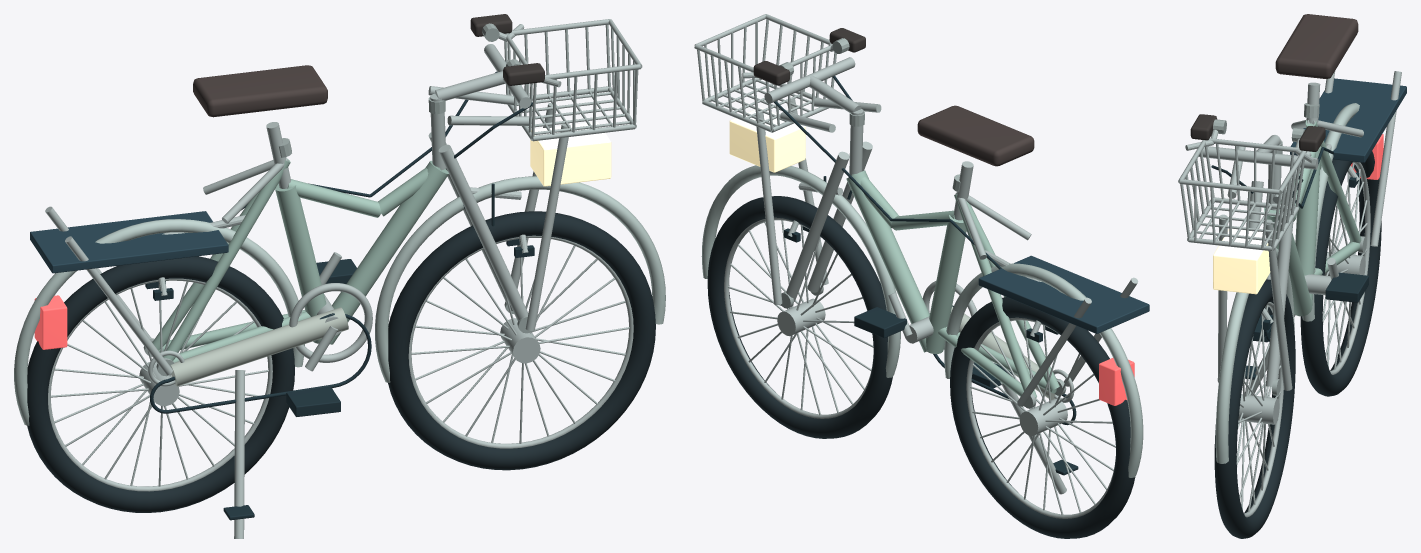
Rendered from bicycle.glb.
3 views of the same model, side by side, from view 1: azimuth 30°, elevation 25°; view 2: azimuth 150°, elevation 25°; view 3: azimuth 270°, elevation 25° (orthographic). The views are drawn at different scales.
Parts seen in each view (by area): view 1: Repair | Bicycle wheel rim.002, Repair | Bicycle tyre.002, Repair | Rear seat stay.002, Web | Bicycle/0005.001, Repair | Bicycle rear carrier.001, Repair | Bicycle chain.034, Rounded bicycle saddle.001, Web | Bicycle/0024.001, Web | Bicycle/0047.001, Rounded bicycle grip.002, Web | Bicycle/0048.001, Bicycle clamp collar.004; view 2: Repair | Bicycle wheel rim.002, Repair | Bicycle tyre.002, Repair | Rear seat stay.002, Web | Bicycle/0005.001, Repair | Bicycle rear carrier.001, Rounded bicycle saddle.001, Repair | Bicycle chain.034, Web | Bicycle/0047.001, Rounded bicycle grip.002, Bicycle clamp collar.004, Web | Bicycle/0048.001, Web | Bicycle/0024.001; view 3: Repair | Bicycle wheel rim.002, Repair | Bicycle tyre.002, Repair | Rear seat stay.002, Repair | Bicycle rear carrier.001, Rounded bicycle saddle.001, Web | Bicycle/0005.001, Web | Bicycle/0047.001, Repair | Bicycle chain.034, Rounded bicycle grip.002, Bicycle clamp collar.004, Web | Bicycle/0048.001.
Part boxes in pixels (x1,y1,x2,y2): Repair | Bicycle wheel rim.002: (45,19,642,538); Repair | Bicycle tyre.002: (27,211,655,512); Repair | Rear seat stay.002: (152,158,448,362); Web | Bicycle/0005.001: (14,176,665,425); Repair | Bicycle rear carrier.001: (30,211,228,273); Repair | Bicycle chain.034: (145,71,534,520); Rounded bicycle saddle.001: (193,65,327,117); Web | Bicycle/0024.001: (170,307,348,386); Web | Bicycle/0047.001: (530,121,611,186); Rounded bicycle grip.002: (470,14,544,85); Web | Bicycle/0048.001: (34,295,67,349); Bicycle clamp collar.004: (143,23,536,376); Repair | Bicycle wheel rim.002: (694,14,1138,518); Repair | Bicycle tyre.002: (707,196,1135,538); Repair | Rear seat stay.002: (846,170,1059,398); Web | Bicycle/0005.001: (701,165,1143,477); Repair | Bicycle rear carrier.001: (978,255,1149,333); Rounded bicycle saddle.001: (917,105,1034,166); Repair | Bicycle chain.034: (773,76,1078,475); Web | Bicycle/0047.001: (729,107,805,172); Rounded bicycle grip.002: (753,28,865,85); Bicycle clamp collar.004: (779,38,1066,408); Web | Bicycle/0048.001: (1099,358,1134,405); Web | Bicycle/0024.001: (950,305,1058,400); Repair | Bicycle wheel rim.002: (1178,71,1401,517); Repair | Bicycle tyre.002: (1214,151,1381,538); Repair | Rear seat stay.002: (1264,120,1361,316); Repair | Bicycle rear carrier.001: (1290,78,1406,162); Rounded bicycle saddle.001: (1275,14,1358,78); Web | Bicycle/0005.001: (1215,103,1379,463); Web | Bicycle/0047.001: (1213,229,1270,294); Repair | Bicycle chain.034: (1211,147,1368,379); Rounded bicycle grip.002: (1190,114,1325,151); Bicycle clamp collar.004: (1213,103,1366,395); Web | Bicycle/0048.001: (1350,134,1383,179).
Size of the model in its own units: 2.1 by 1.51 by 0.7904.
